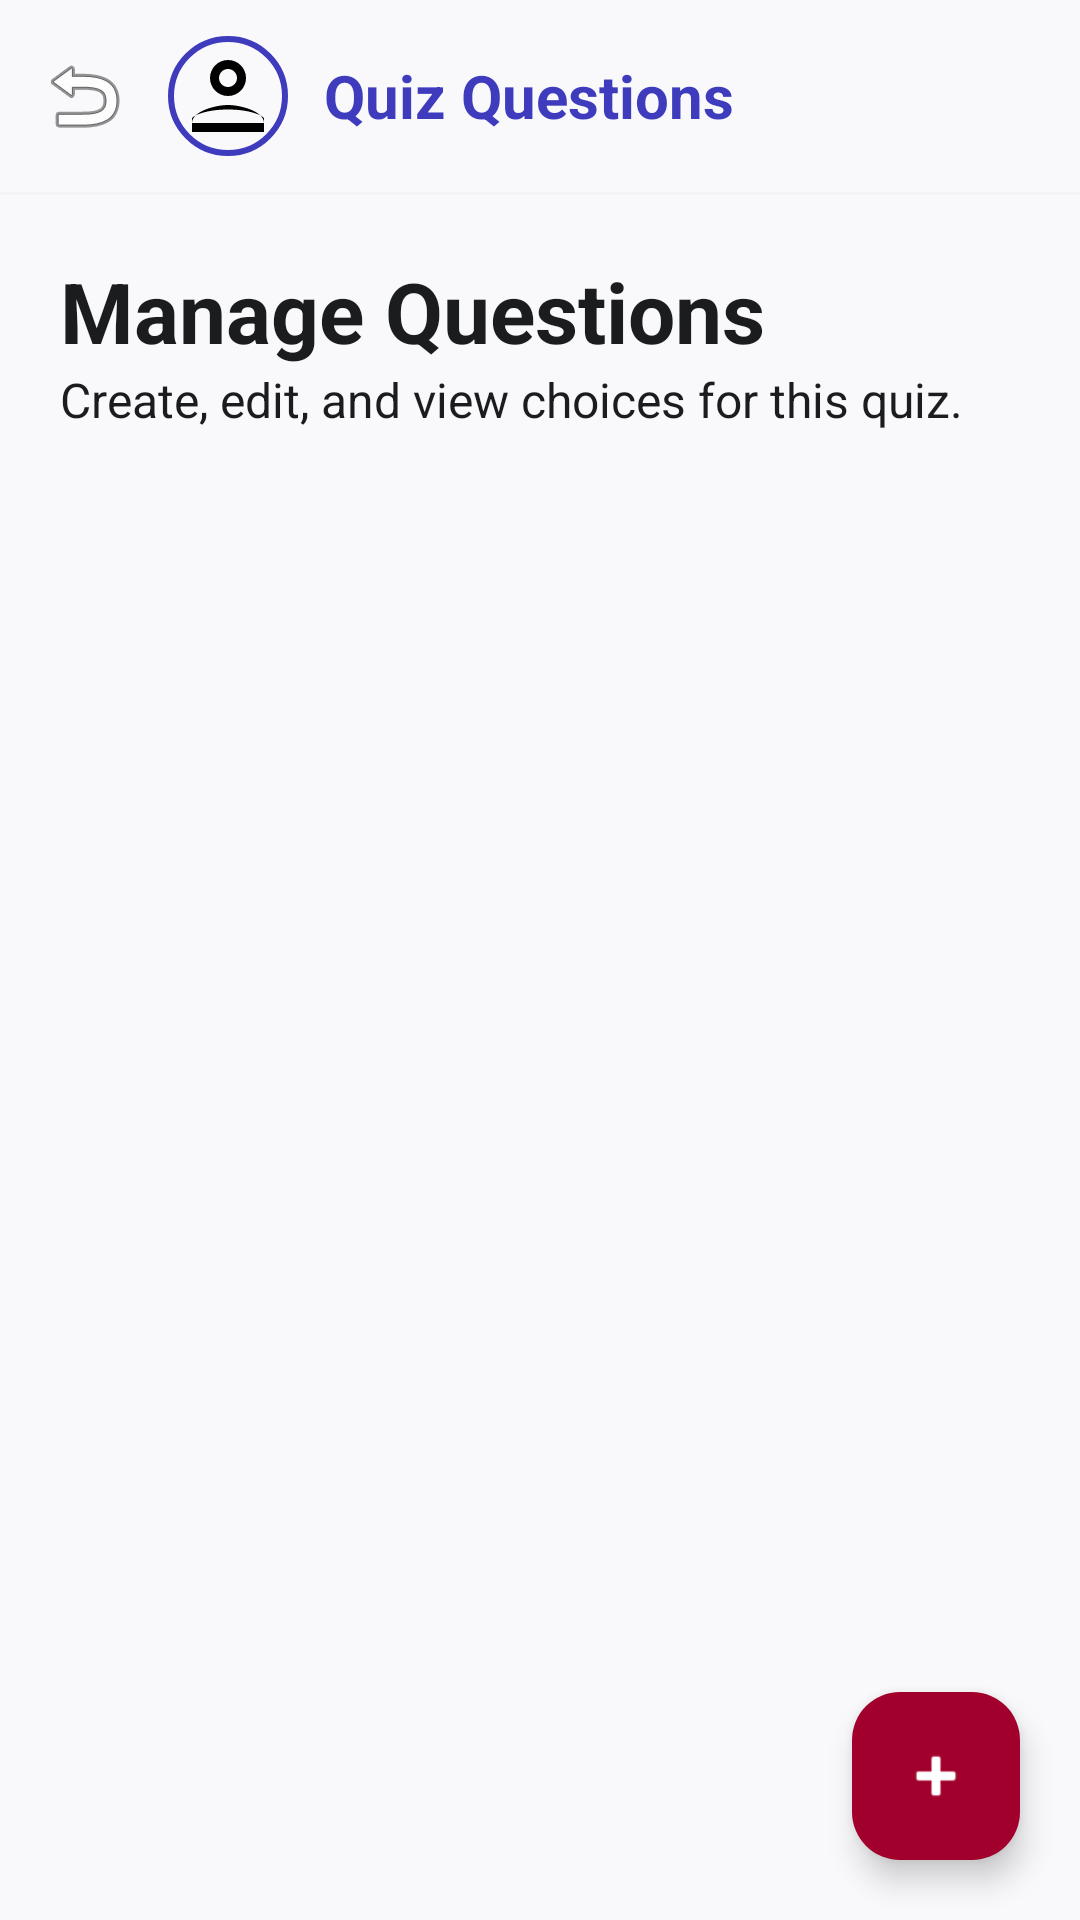

Named icons in this screenshot (1080 x 1920) and their centers, (x,y):
add: (936,1776)
profile: (228,96)
